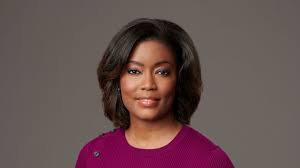No-Glasses: (114, 57, 186, 81)
